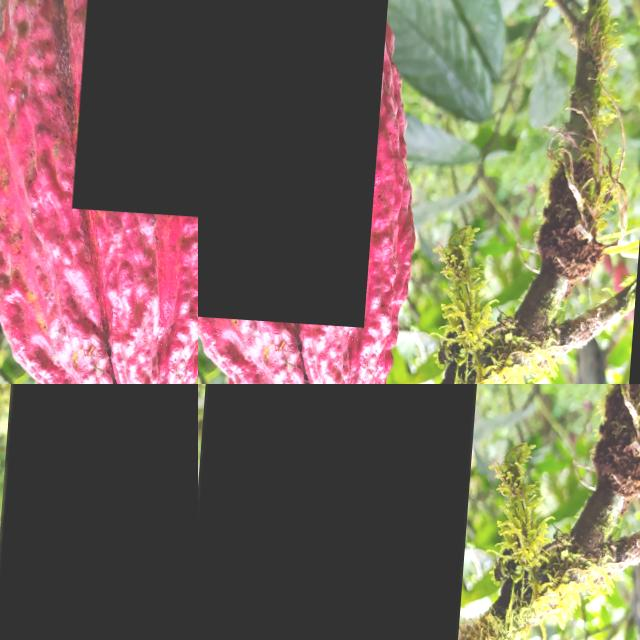Monilia: (77, 0, 198, 214)
Sana: (198, 384, 496, 640), (198, 0, 396, 322), (0, 384, 198, 640)
